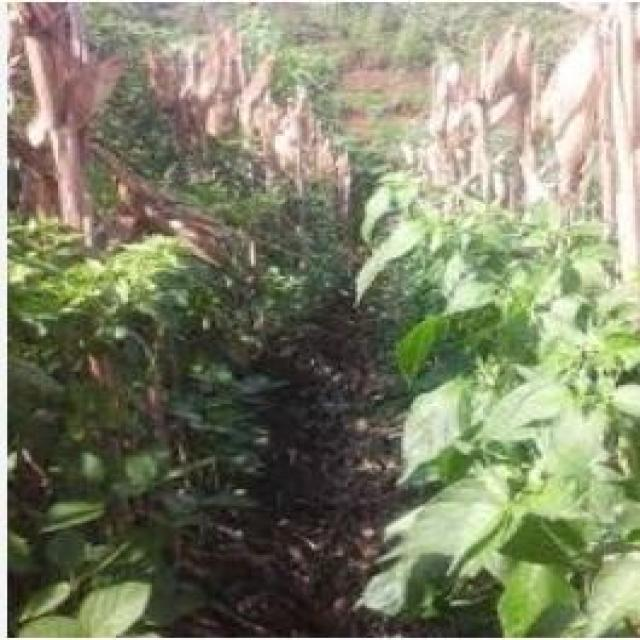row: (126, 203, 516, 638)
